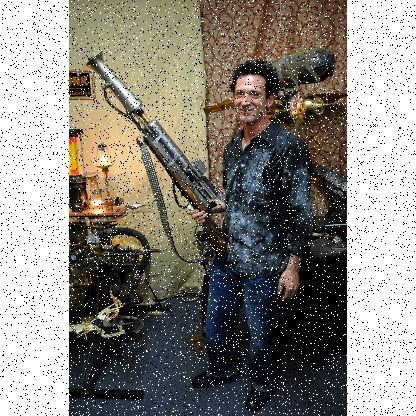gun: (90, 55, 233, 299)
